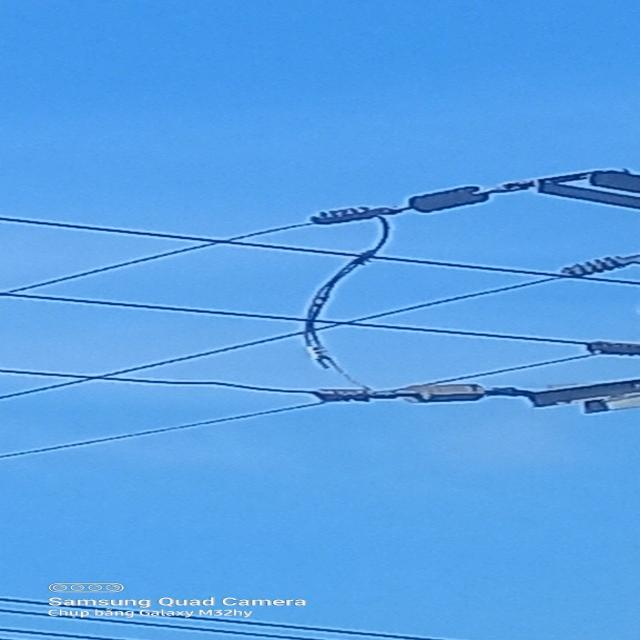wire: (0, 250, 640, 406), (0, 350, 612, 464), (4, 176, 508, 302), (2, 213, 640, 291), (0, 288, 640, 362), (0, 367, 504, 410), (0, 595, 450, 640), (295, 245, 389, 376), (2, 626, 133, 640)
